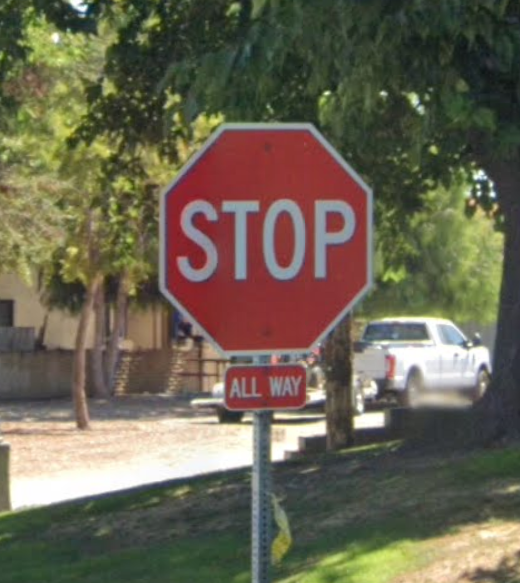stop_sign: (162, 122, 371, 356)
